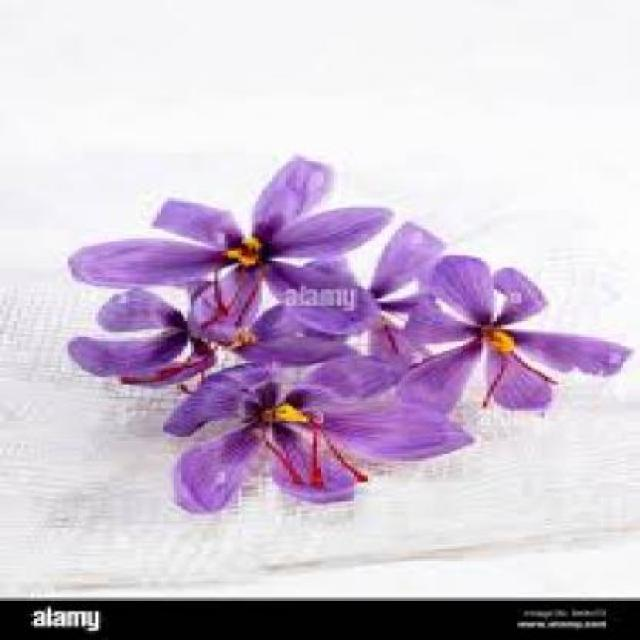Flower: (52, 156, 378, 332), (372, 246, 640, 408), (188, 358, 472, 500), (67, 285, 338, 380)
stigma: (324, 432, 368, 488), (260, 434, 302, 483), (306, 421, 326, 488), (516, 355, 556, 387), (234, 278, 260, 324), (484, 360, 506, 404)
